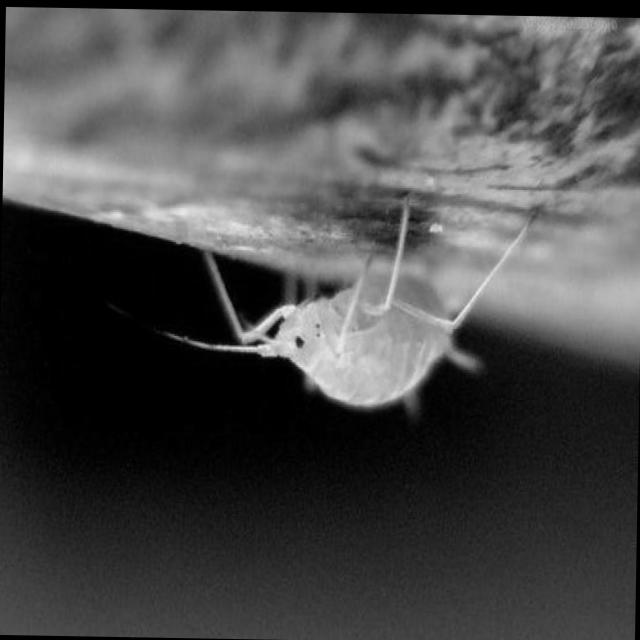Aphids: (163, 185, 561, 439)
